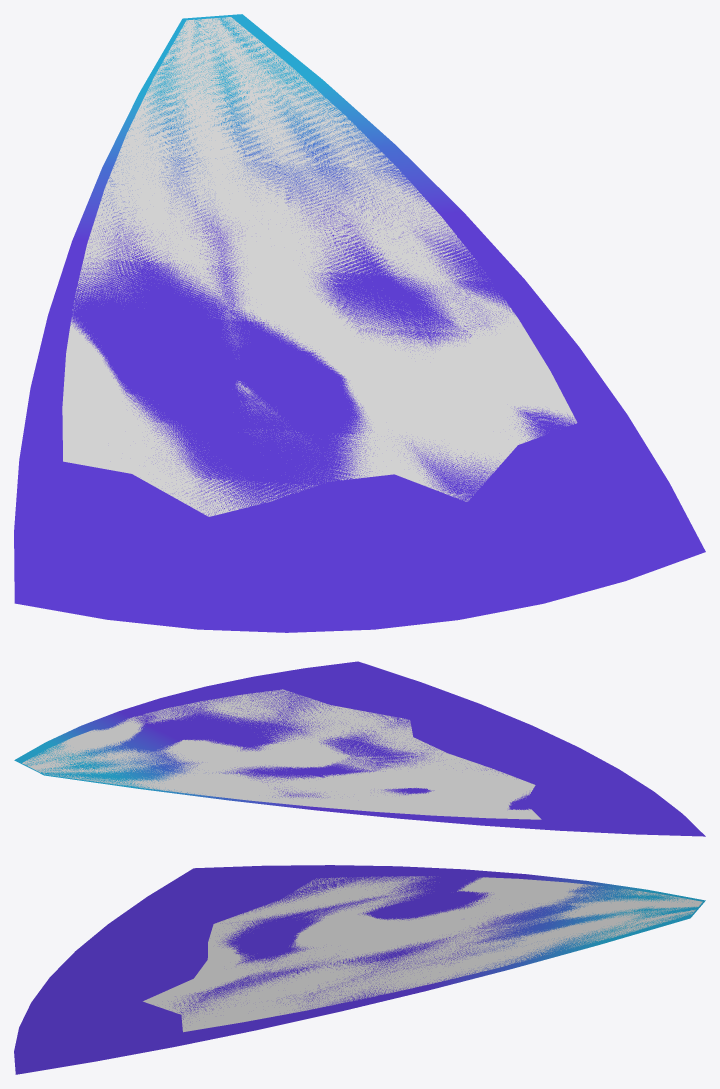
File: pref_fx_Dratini_spell02_atk02_2_lv2.fbx
The picture shows the model from 3 angles, top to bottom: view 1: azimuth 30°, elevation 25°; view 2: azimuth 150°, elevation 25°; view 3: azimuth 270°, elevation 25°; orthographic projection. The views are drawn at different scales.
Visible parts, largest first — view 1: m_wind_02 (1); view 2: m_wind_02 (1); view 3: m_wind_02 (1).
Boxes of the visible parts, left/top/right/bottom form: m_wind_02 (1): left=14, top=14, right=705, bottom=632; m_wind_02 (1): left=14, top=661, right=705, bottom=836; m_wind_02 (1): left=14, top=865, right=705, bottom=1074.
Size of the model in its own units: 3.86 by 1.37 by 5.13.
